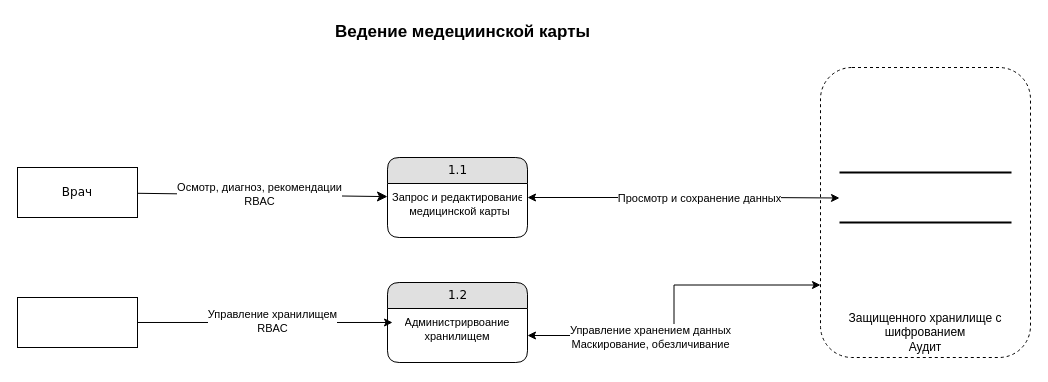
Some shapes in this 1048 by 382 pixel diagram are drawn without their labels. Each missing label, with the box of its shape:
IT-отдел: (16, 296, 138, 348)
Данные пациентов Any files: (838, 171, 1012, 223)
